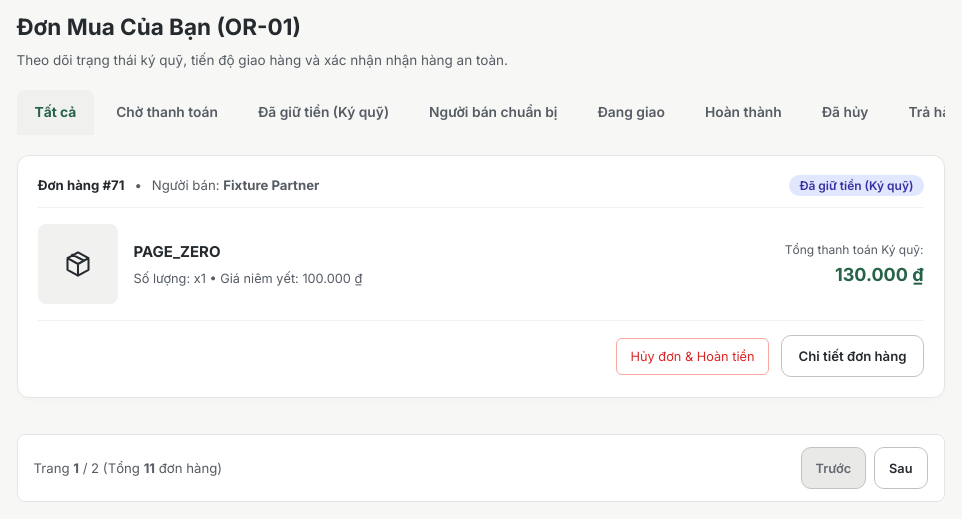
TASK-0048 positive pagination probes › clamps an out-of-range buyer page when totalPages stays positive
Expected: the heading "PAGE_ZERO" is shown, [134, 242, 220, 261]
Click the button "Sau" at (901, 468), box [874, 448, 928, 490]
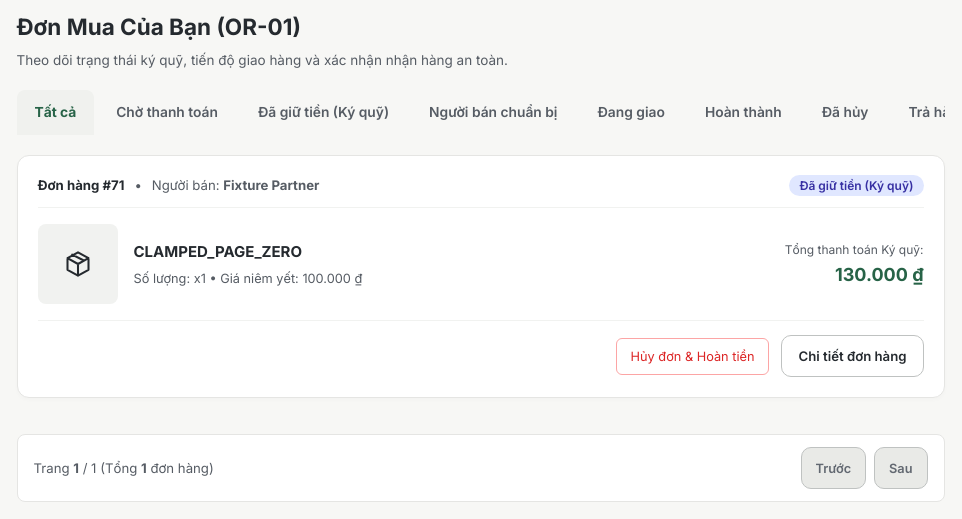
Expected: the heading "CLAMPED_PAGE_ZERO" is shown, [134, 242, 302, 261]
